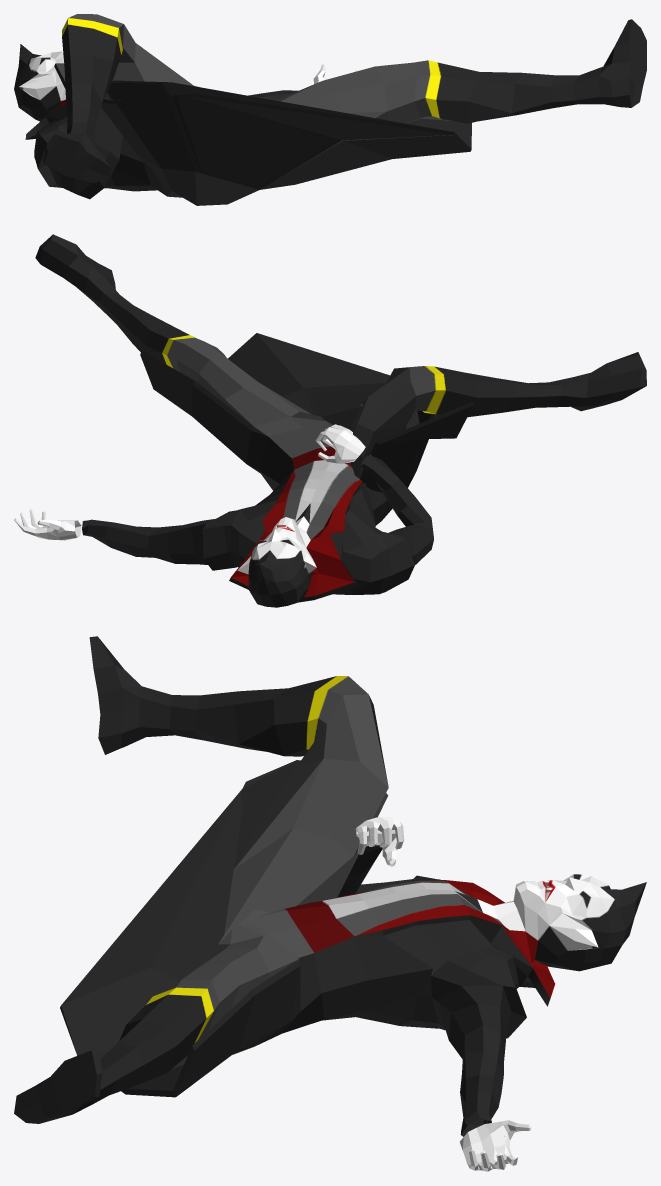
Rendered from VampireDead(47).obj.
The picture shows the model from 3 angles, top to bottom: view 1: azimuth 30°, elevation 25°; view 2: azimuth 150°, elevation 25°; view 3: azimuth 270°, elevation 25°; orthographic projection. The views are drawn at different scales.
Visible parts, largest first — view 1: Plane002; view 2: Plane002; view 3: Plane002.
Boxes of the visible parts, left/top/right/bottom form: Plane002: left=14, top=14, right=646, bottom=205; Plane002: left=14, top=234, right=646, bottom=607; Plane002: left=14, top=636, right=646, bottom=1171.
Size of the model in its own units: 345 by 113 by 232.
